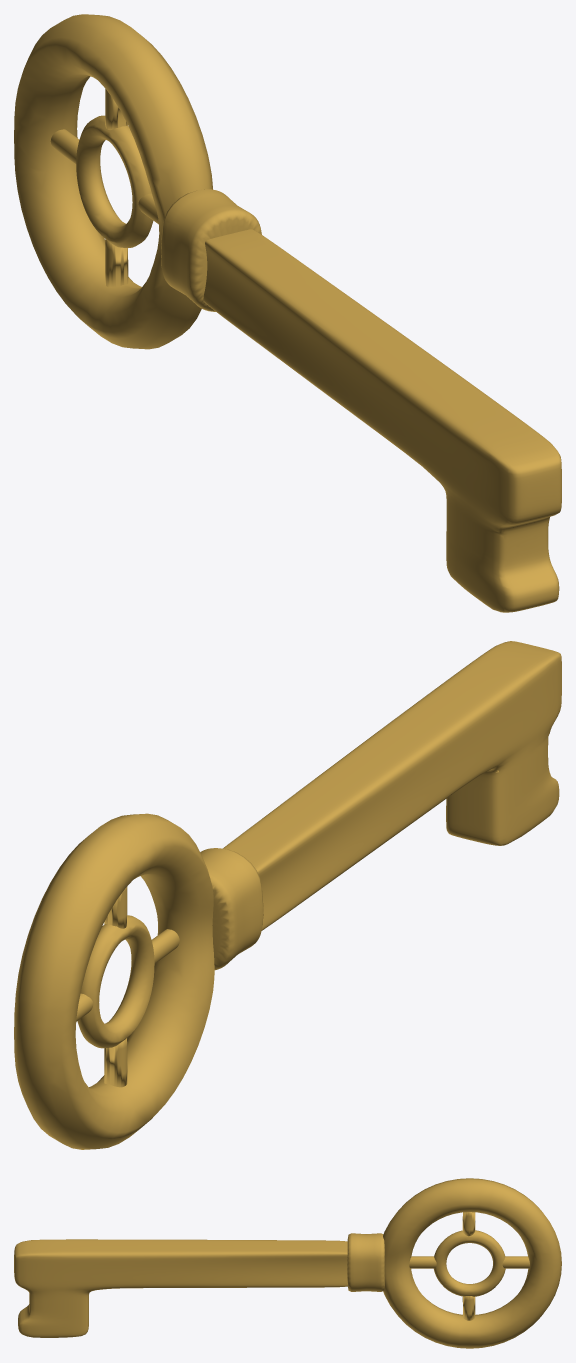
File: Chave.fbx
The picture shows the model from 3 angles, top to bottom: view 1: azimuth 30°, elevation 25°; view 2: azimuth 150°, elevation 25°; view 3: azimuth 270°, elevation 25°; orthographic projection. The views are drawn at different scales.
Visible parts, largest first — view 1: Cube; view 2: Cube; view 3: Cube.
Boxes of the visible parts, <box> form: Cube: <box>14,14,561,612</box>; Cube: <box>14,641,561,1149</box>; Cube: <box>14,1178,561,1348</box>.
Bounding box in the file's own units: 22.55 × 90.28 × 268.
1 material, 1 textured.
